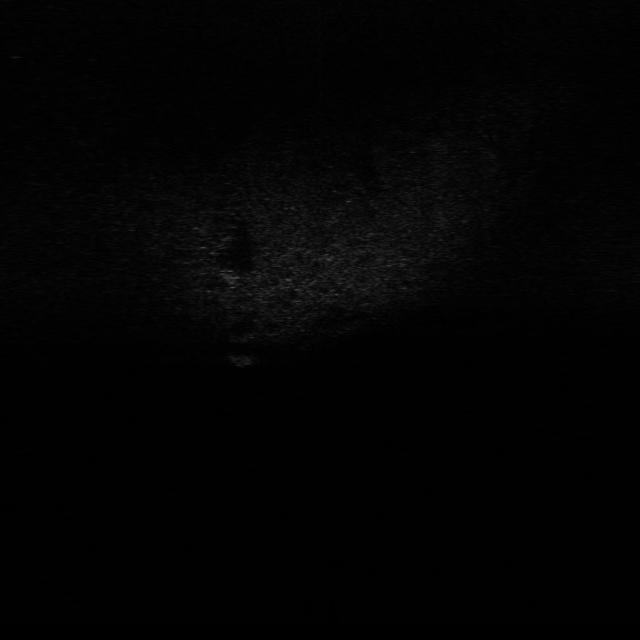cube: (228, 349, 257, 370)
